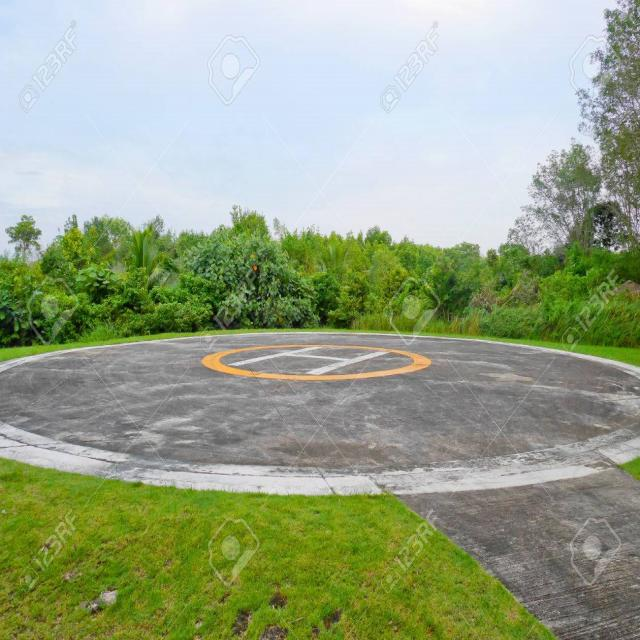helipad: (197, 338, 434, 385)
